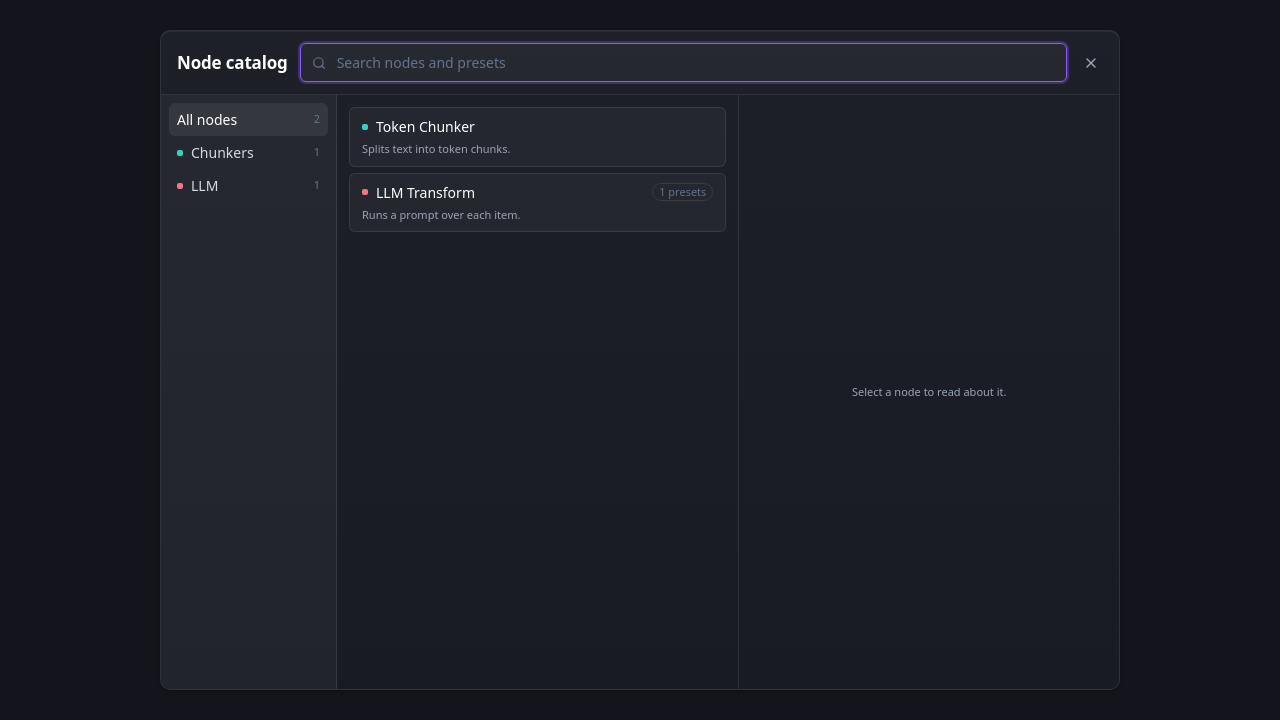
Test: NodeCatalogOverlay › lists every category with counts and focuses a node into the detail pane
Expected: the button "All nodes 2" is shown, [169,103,328,136]
Expected: the button "Chunkers 1" is shown, [169,136,328,169]
Click the button "Token Chunker Splits text into token chunks." at (425, 126), box [349,107,726,166]
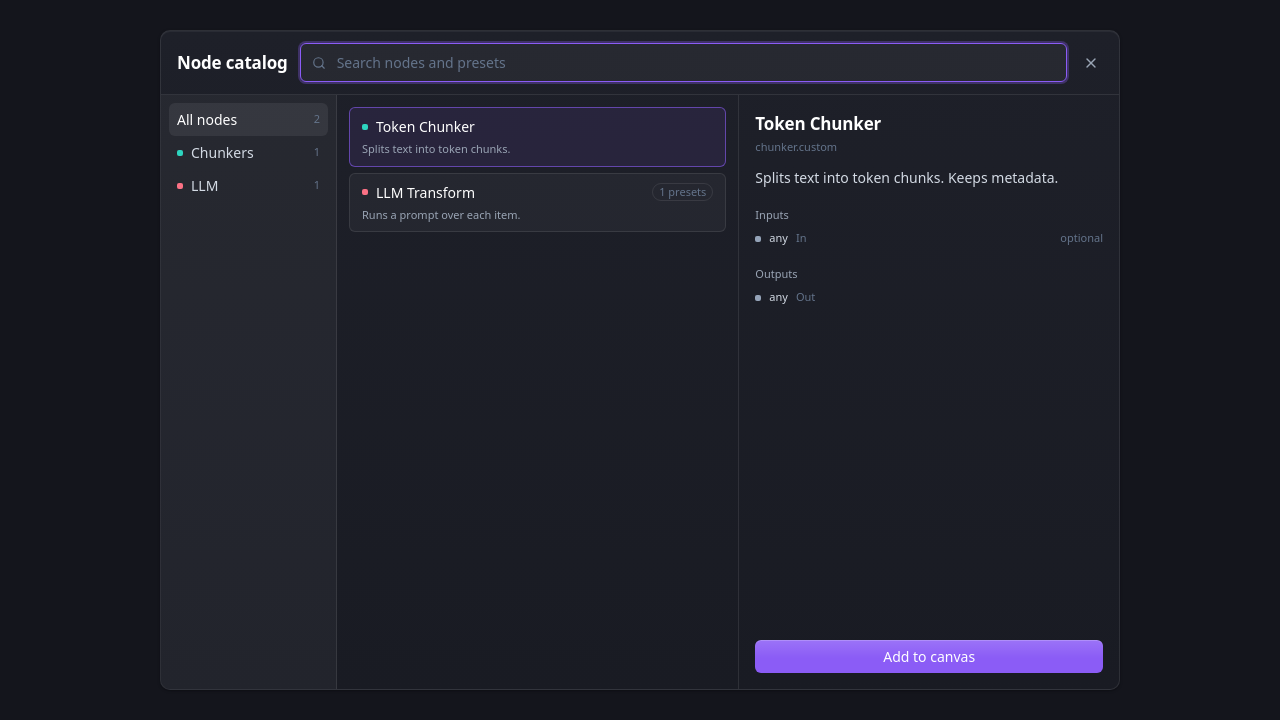
Expected: the text "chunker.custom" is shown, [755,138,837,154]
Expected: the text "Splits text into token chunks. Keeps metadata." is shown, [755,167,1103,190]
